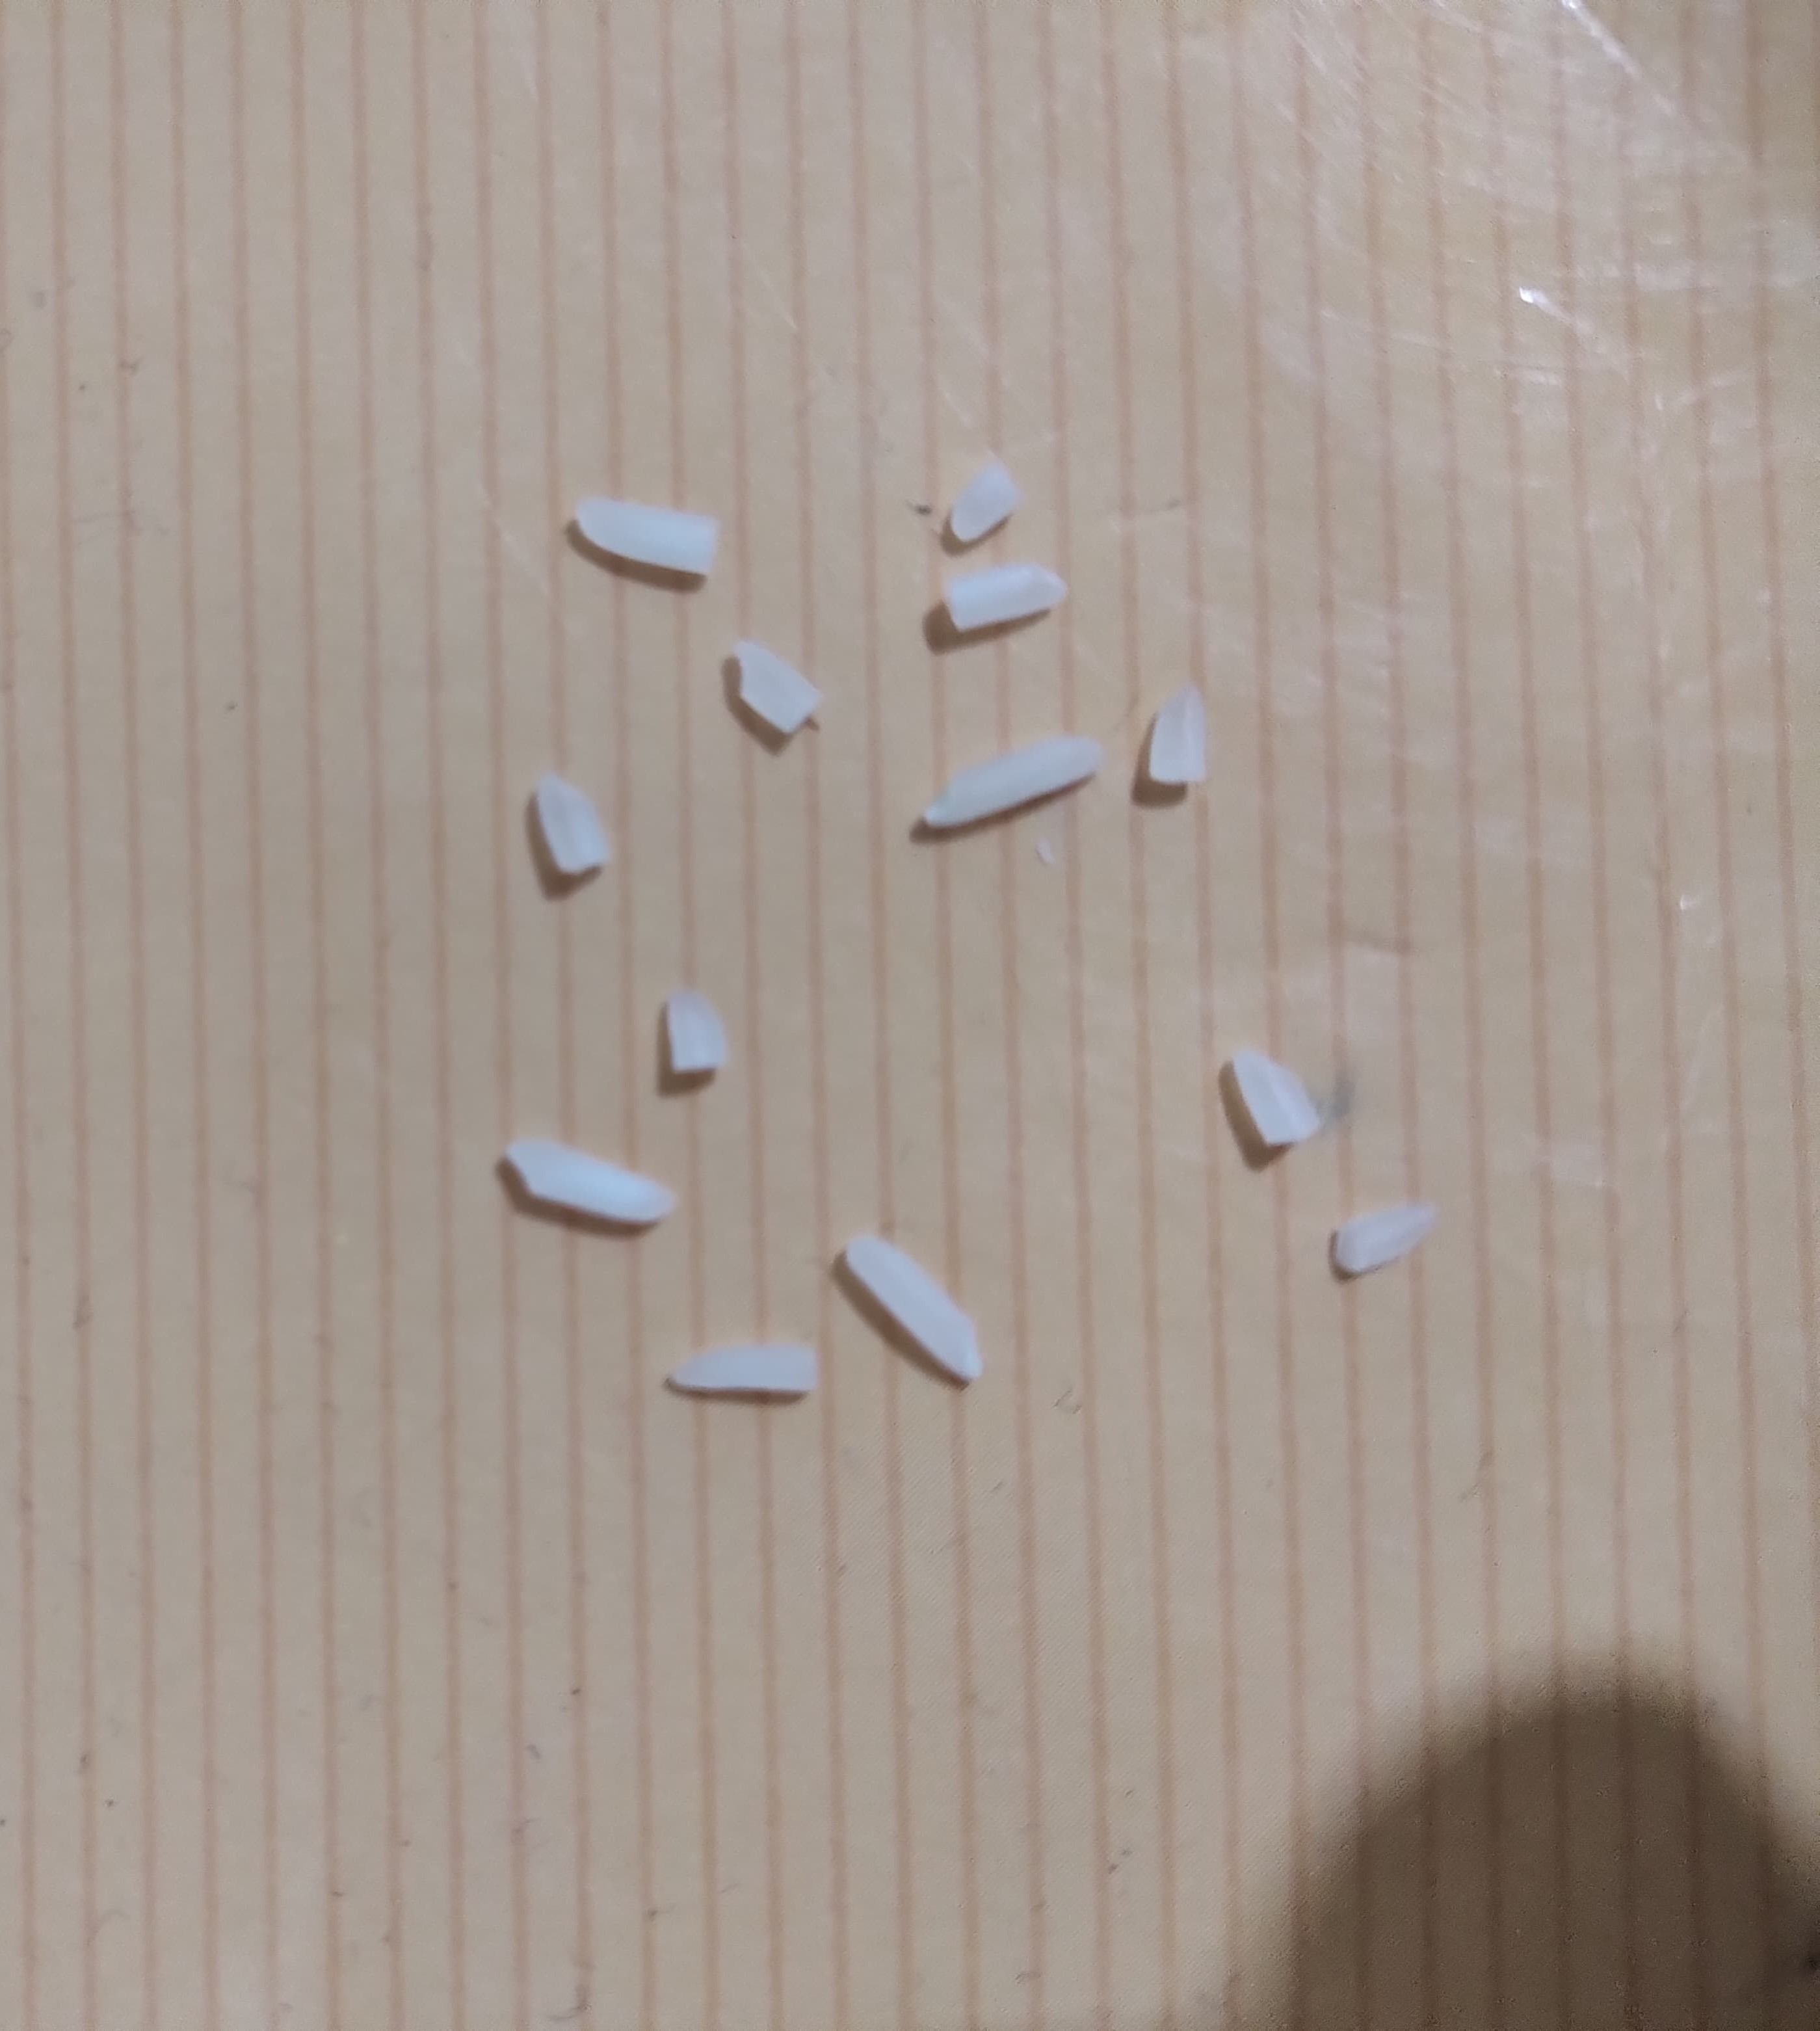broken_grain: (548, 481, 751, 605), (649, 1333, 844, 1421), (714, 621, 834, 747), (923, 562, 1088, 650), (1220, 1035, 1332, 1167), (1311, 1195, 1457, 1283), (932, 434, 1025, 564), (1133, 676, 1222, 806), (649, 968, 732, 1102), (527, 771, 611, 893)
complete_grain: (836, 1234, 1020, 1411), (893, 717, 1118, 852), (495, 1120, 696, 1244)
